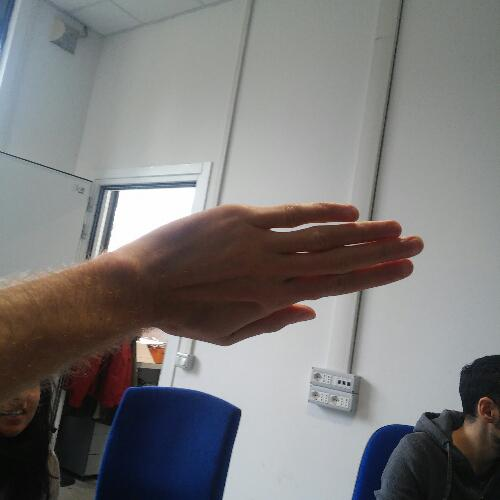paper: (112, 196, 431, 355)
